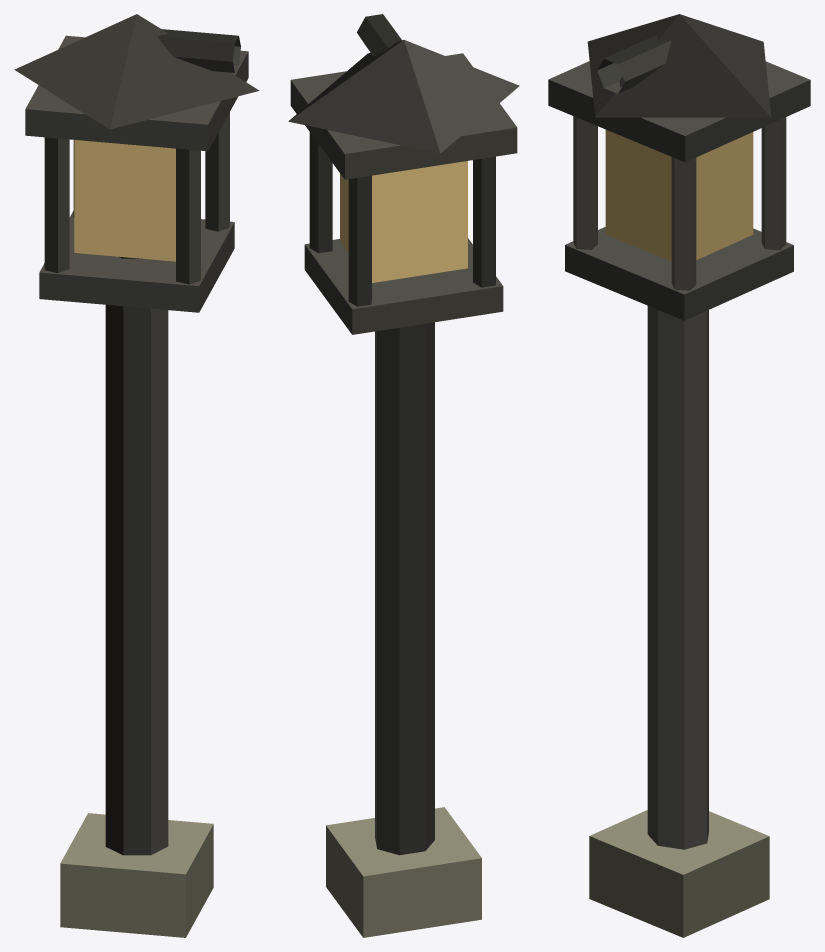
The picture shows the model from 3 angles, left to right: view 1: azimuth 30°, elevation 25°; view 2: azimuth 150°, elevation 25°; view 3: azimuth 270°, elevation 25°; orthographic projection. The views are drawn at different scales.
Parts seen in each view (by area): view 1: a457efb8fb0849c227087cf724d846e4abcafa26121553e498a61d9d4d9c; view 2: a457efb8fb0849c227087cf724d846e4abcafa26121553e498a61d9d4d9c; view 3: a457efb8fb0849c227087cf724d846e4abcafa26121553e498a61d9d4d9c.
Boxes of the visible parts, <box> form: a457efb8fb0849c227087cf724d846e4abcafa26121553e498a61d9d4d9c: <box>14,14,259,937</box>; a457efb8fb0849c227087cf724d846e4abcafa26121553e498a61d9d4d9c: <box>288,14,519,937</box>; a457efb8fb0849c227087cf724d846e4abcafa26121553e498a61d9d4d9c: <box>548,14,810,937</box>.
Bounding box in the file's own units: 0.9042 × 3.38 × 0.9042.
Materials: 2 (1 with a texture image).
